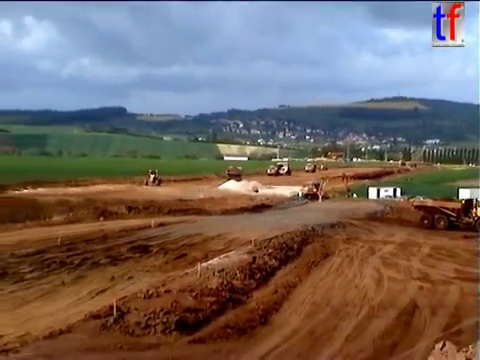crane: (326, 148, 346, 163)
excavator: (300, 172, 351, 201)
truck: (411, 197, 480, 233), (142, 167, 163, 187), (224, 165, 245, 184), (276, 162, 292, 176), (264, 163, 278, 176), (303, 162, 317, 174), (318, 162, 329, 172)
worker: (297, 190, 305, 202), (351, 191, 359, 201)
